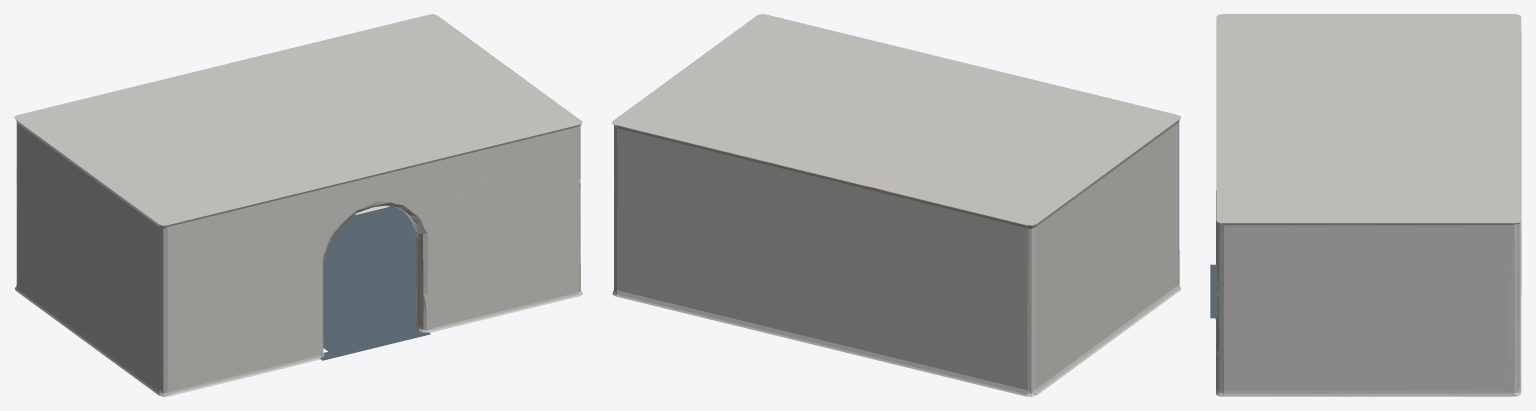
The model's file is etape-1.glb.
3 views of the same model, side by side, from view 1: azimuth 30°, elevation 25°; view 2: azimuth 150°, elevation 25°; view 3: azimuth 270°, elevation 25° (orthographic).
Parts seen in each view (by area): view 1: geometry_0; view 2: geometry_0; view 3: geometry_0.
Part boxes in pixels (x1,y1,x2,y2): geometry_0: (14,14,582,396); geometry_0: (611,14,1181,396); geometry_0: (1210,14,1521,396).
Bounding box in the file's own units: 0.902 × 0.3489 × 0.5666.
